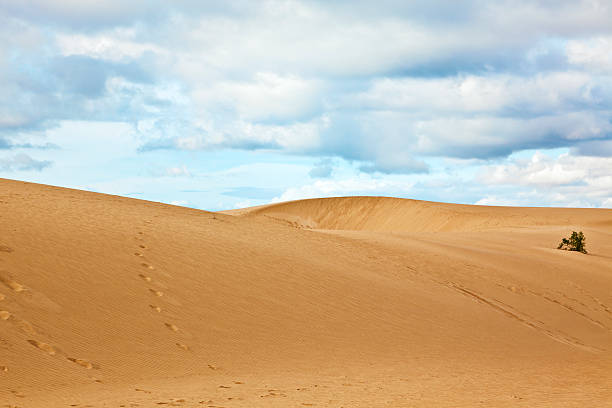human_footprint: (134, 231, 154, 270), (0, 271, 25, 292), (27, 339, 56, 355), (138, 273, 151, 282), (164, 323, 178, 331), (149, 304, 161, 312)
